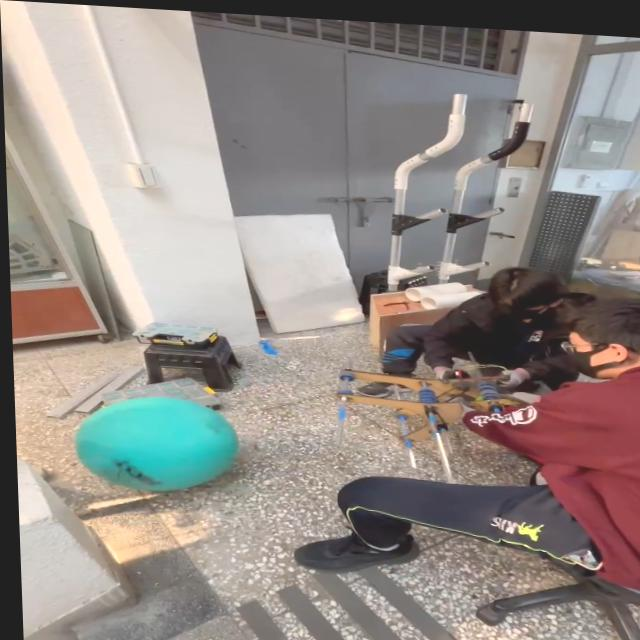ALGAE: (69, 390, 242, 498)
